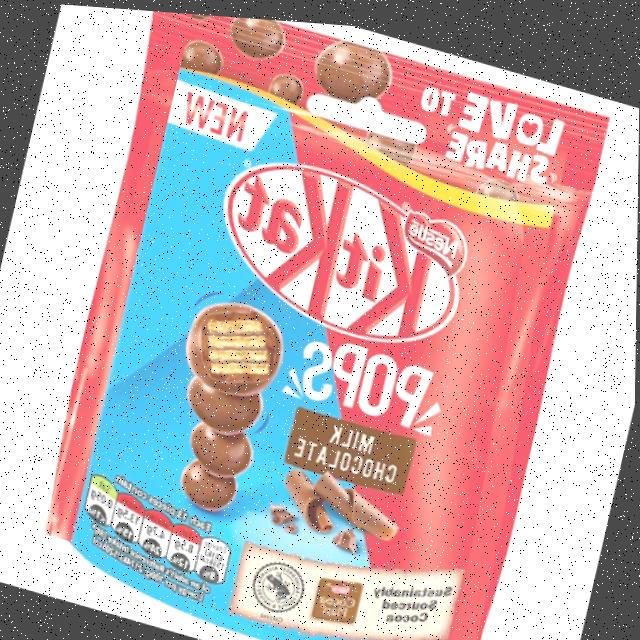kitkat: (34, 2, 611, 640)
